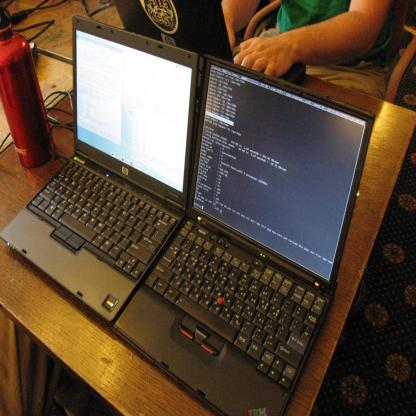board: (113, 54, 374, 416), (0, 16, 198, 321)
